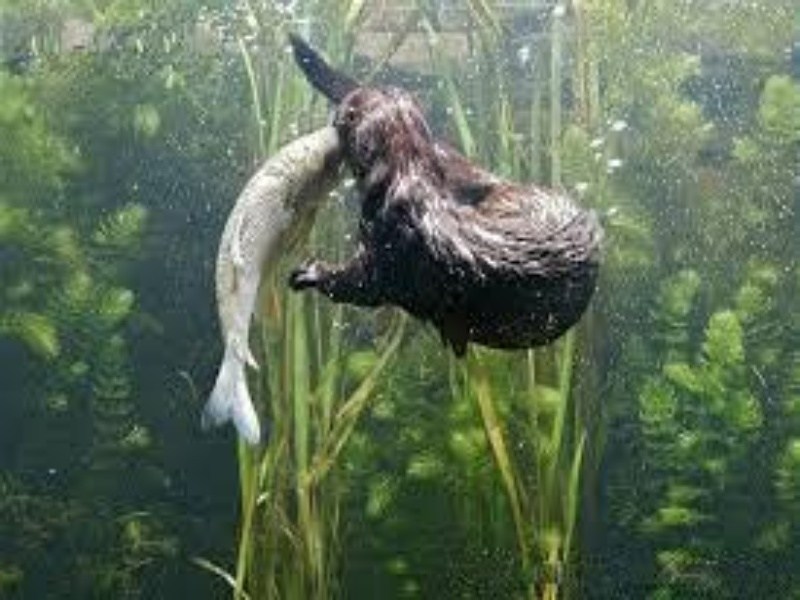minkish: (286, 27, 606, 363)
